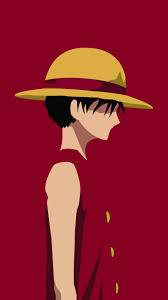luffy: (12, 47, 157, 164)
